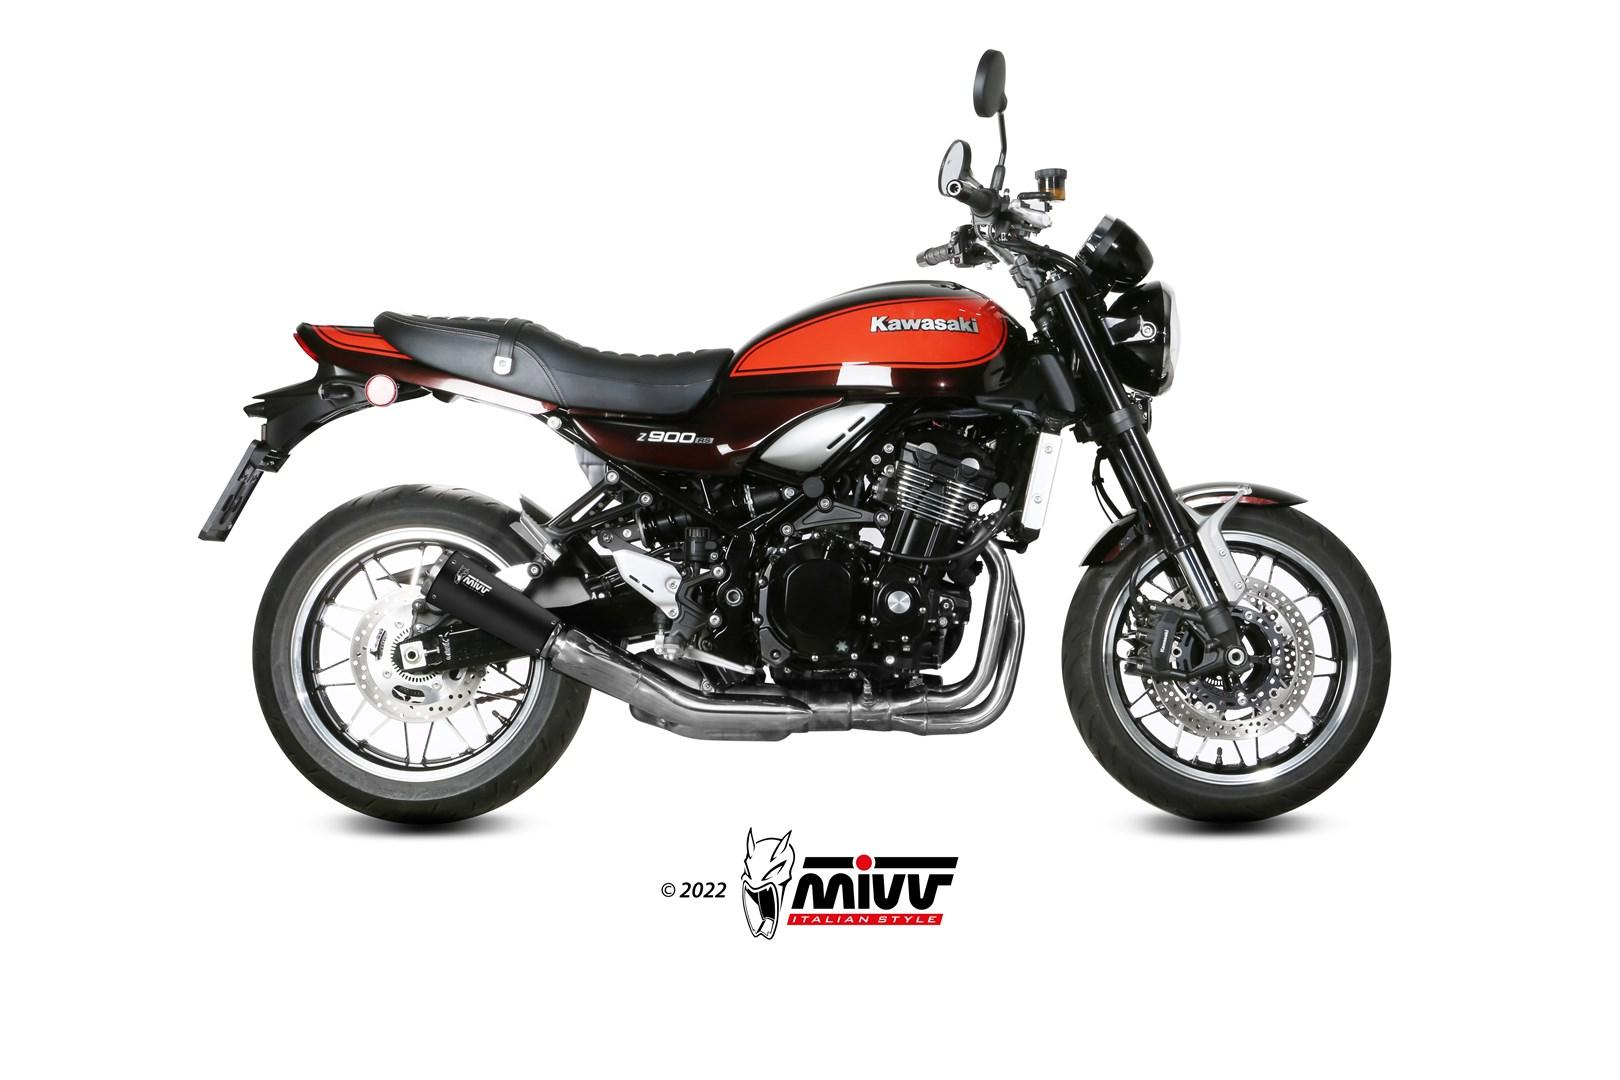engine-chasis: (612, 399, 1041, 709), (618, 498, 709, 550), (698, 483, 799, 526)
exhaust: (419, 539, 1026, 742)
frontside: (974, 269, 1309, 681)
handlebar: (915, 48, 1155, 316)
motorbike: (199, 48, 1391, 823)
rearside: (198, 322, 900, 650), (395, 623, 532, 673)
seat: (372, 311, 735, 416)
tank: (712, 280, 1028, 401)
watermark: (659, 826, 963, 943)
wheel: (252, 482, 592, 826), (1061, 506, 1392, 824), (1108, 440, 1150, 624), (1091, 447, 1123, 523), (462, 685, 527, 709)
